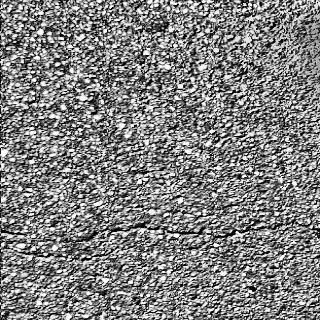crack: (1, 220, 320, 260)
